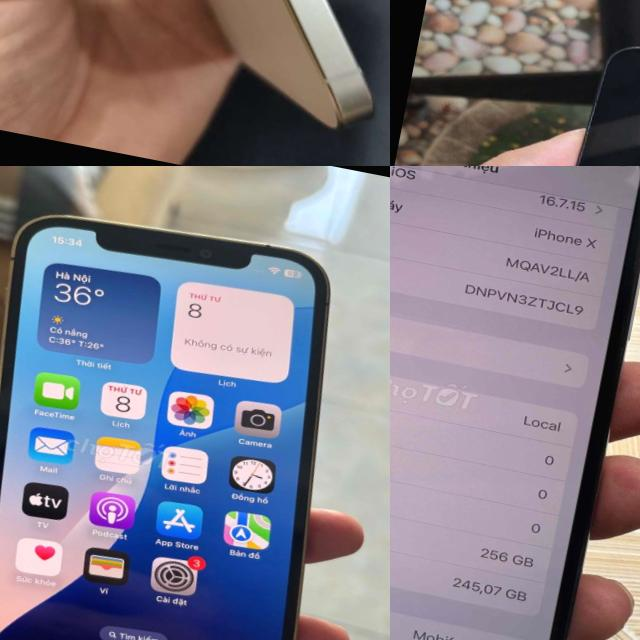gen_12_13: (0, 187, 382, 640), (514, 15, 640, 166)
gen_15: (0, 0, 390, 155)
gen_x_xs: (390, 166, 640, 640)
